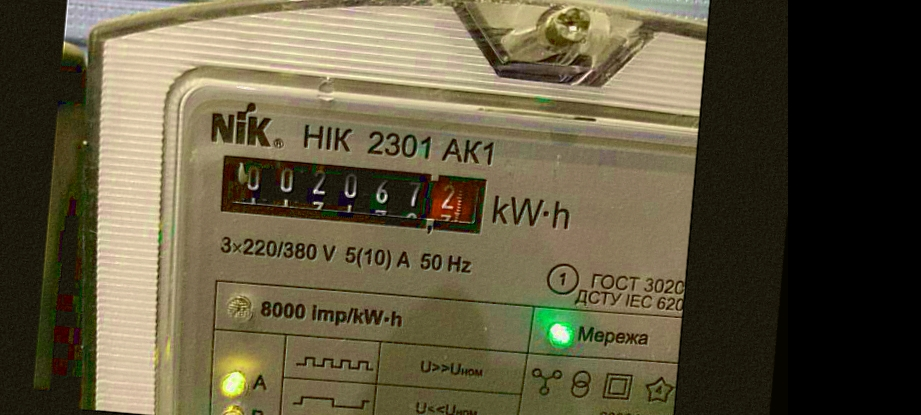0: (339, 169, 360, 199), (243, 163, 263, 193), (277, 164, 296, 194)
2: (309, 167, 329, 197), (438, 181, 458, 211)
6: (372, 175, 392, 206)
7: (405, 178, 423, 209)
screen: (204, 141, 502, 248)
